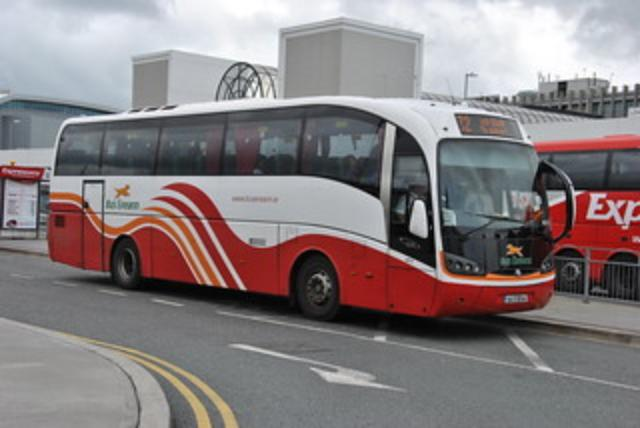bus: (46, 96, 556, 320)
